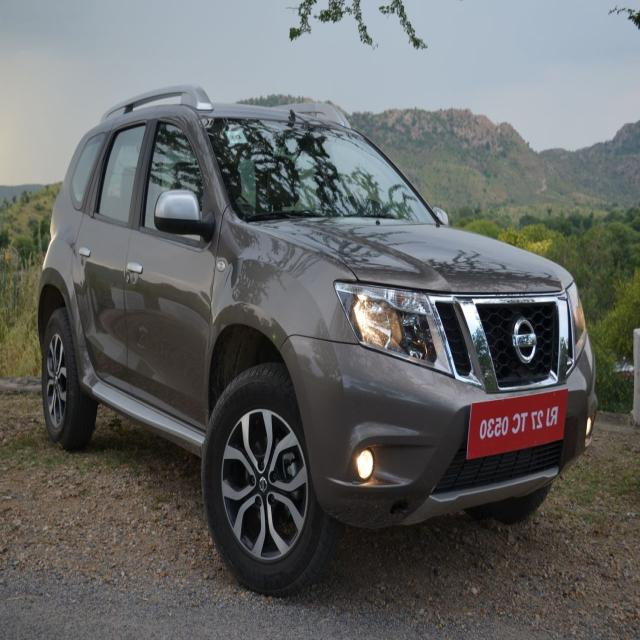number-plate: (455, 383, 573, 478)
